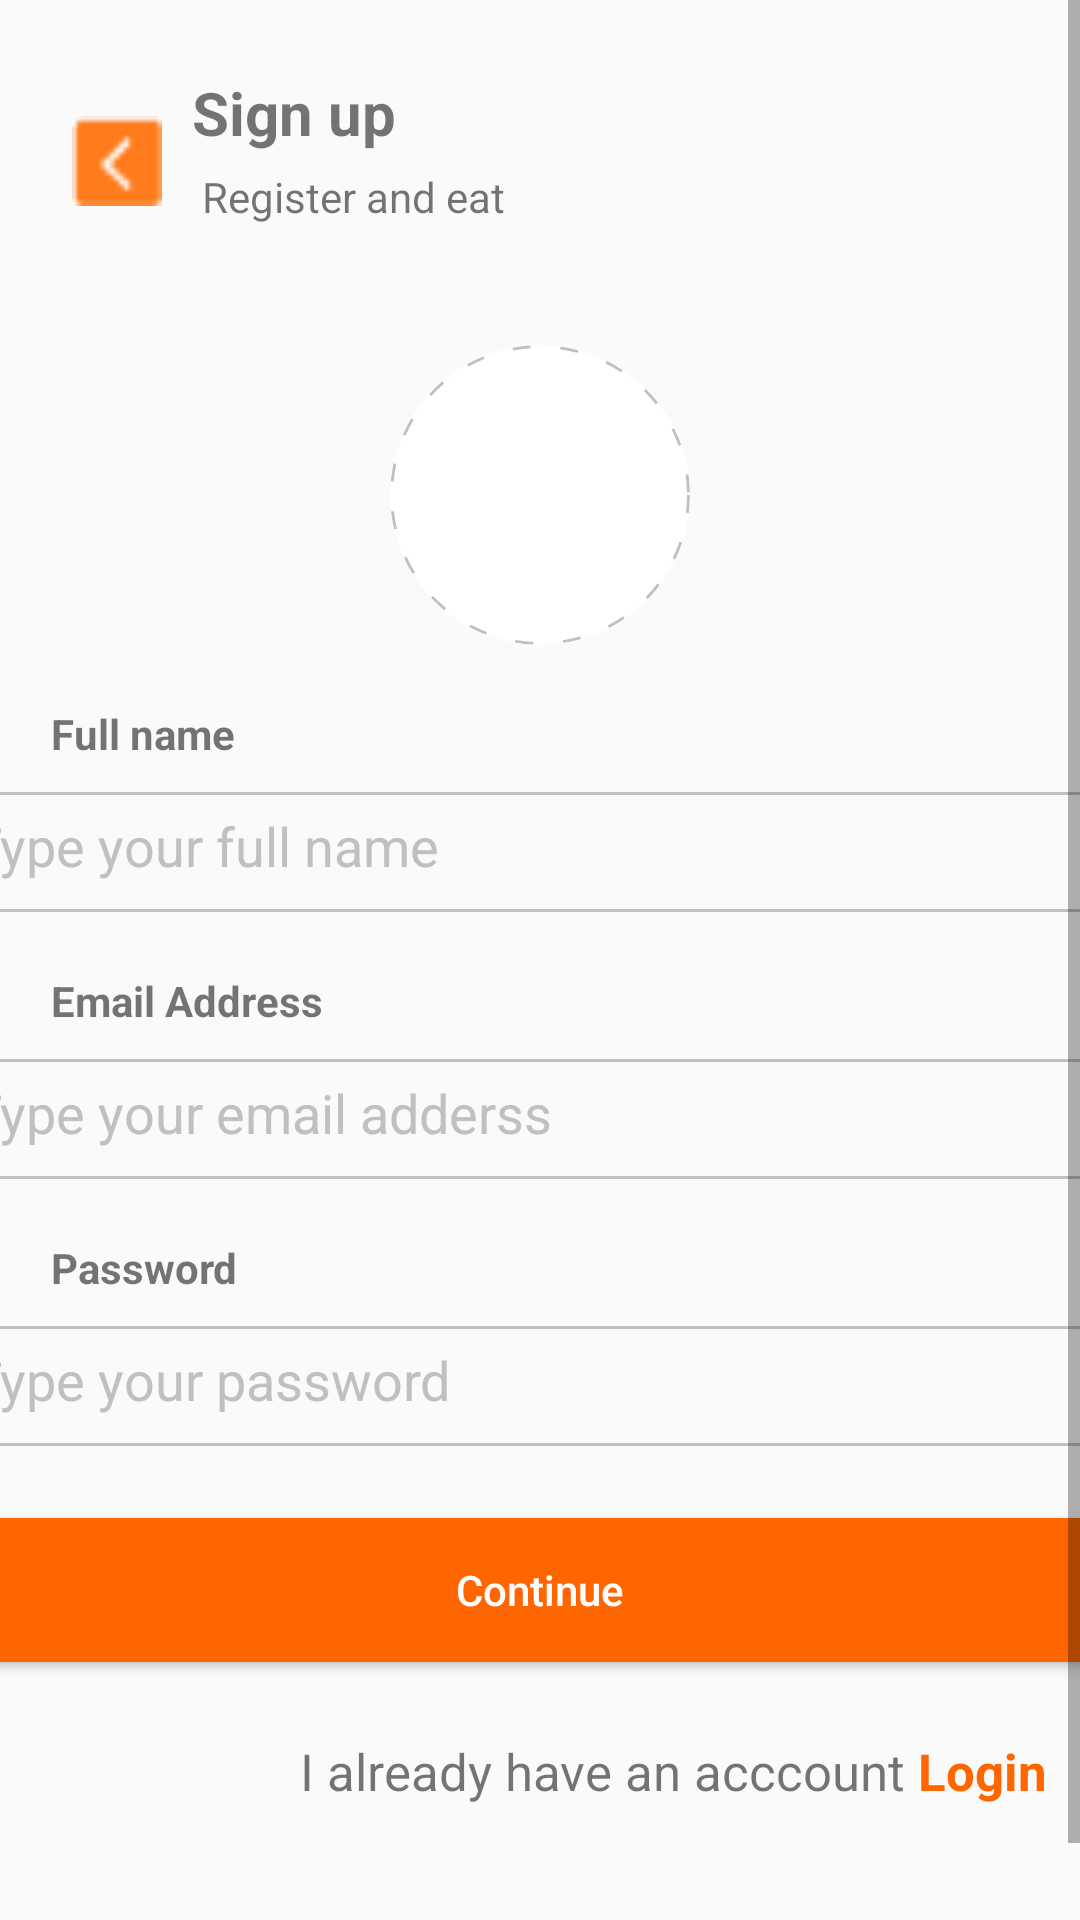

Where icons sit on this 1080w x 1920h app screen, as Rect(x1, y1, x2, y2):
back: Rect(72, 116, 162, 206)
